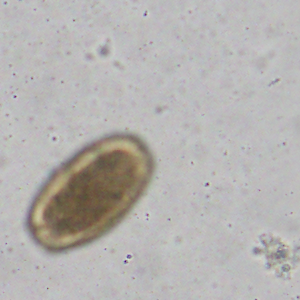Fasciola_hepatica_egg: (26, 132, 154, 252)
